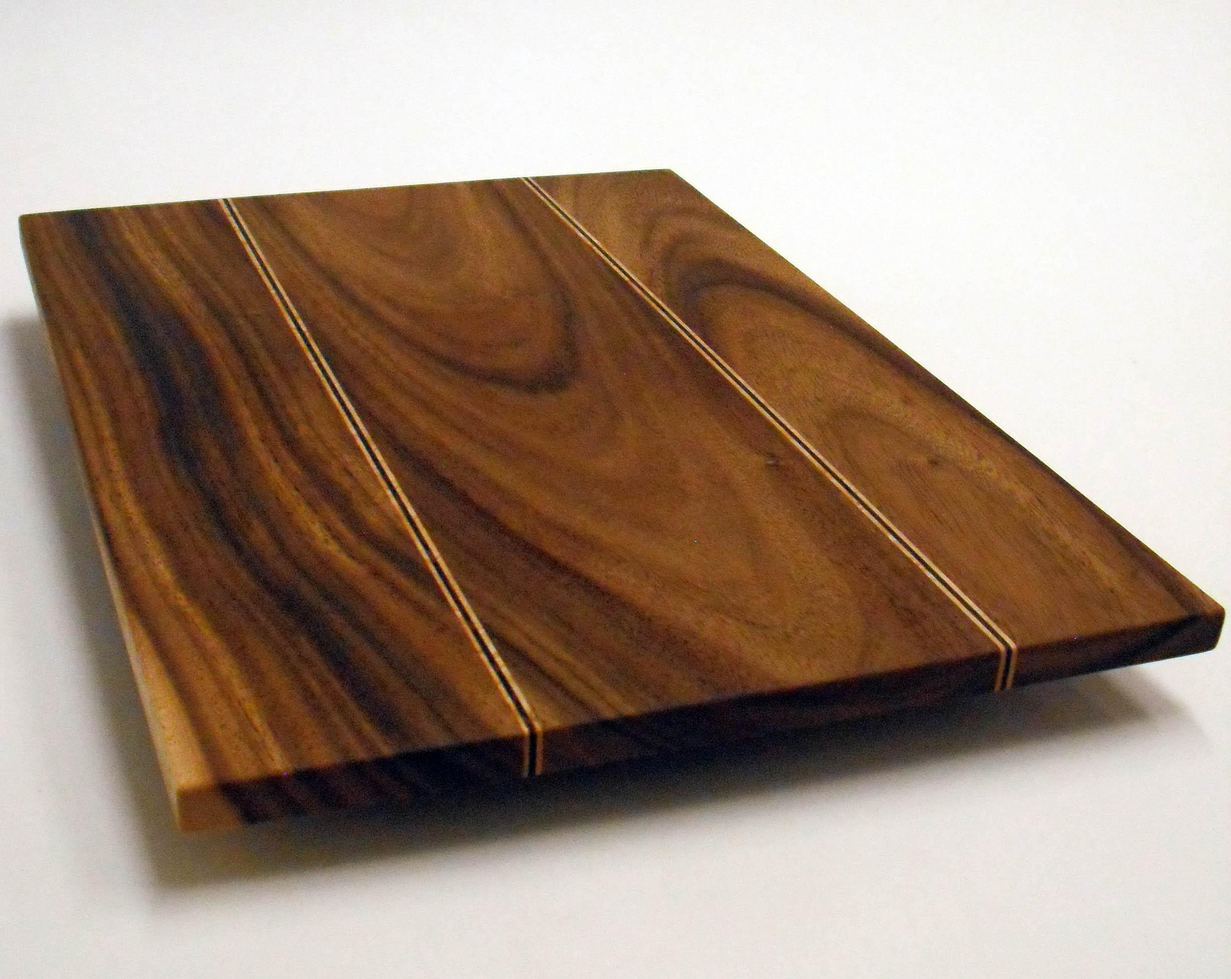gloved_hand: (13, 161, 1231, 834)
